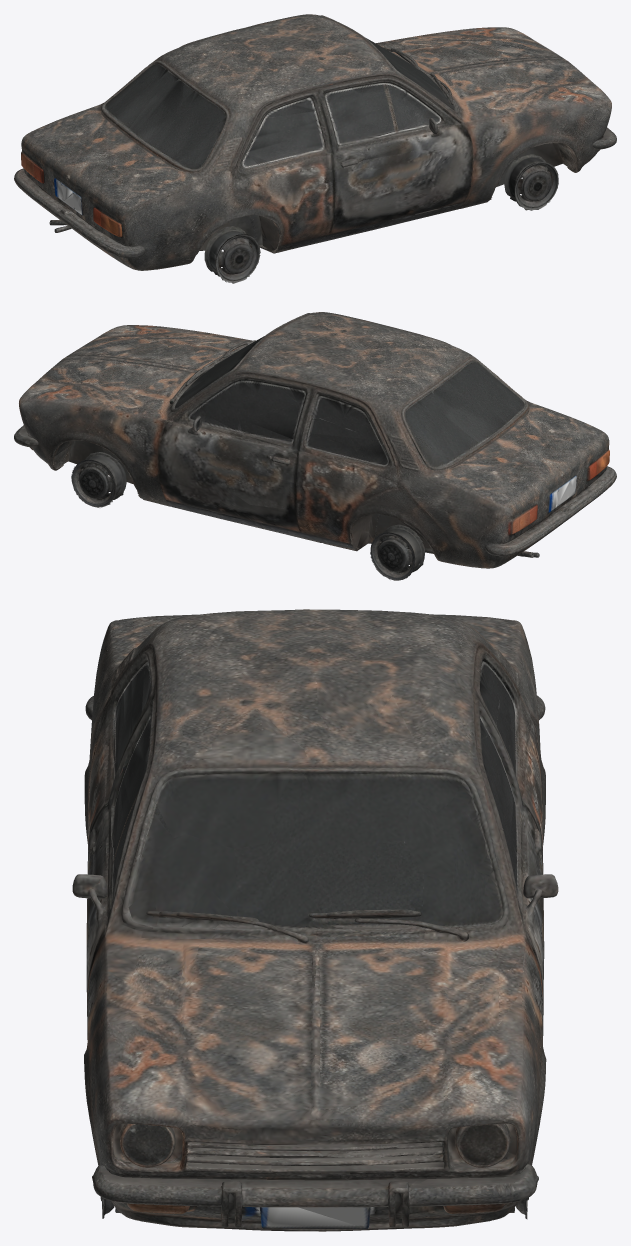
Rendered from lambari-queimado__01a16dcf.glb.
The picture shows the model from 3 angles, top to bottom: view 1: azimuth 30°, elevation 25°; view 2: azimuth 150°, elevation 25°; view 3: azimuth 270°, elevation 25°; orthographic projection. The views are drawn at different scales.
Parts seen in each view (by area): view 1: lambari-queimado; view 2: lambari-queimado; view 3: lambari-queimado.
Part boxes in pixels (x1=…): lambari-queimado: x1=14, y1=14, x2=616, y2=283; lambari-queimado: x1=14, y1=312, x2=616, y2=580; lambari-queimado: x1=72, y1=609, x2=558, y2=1231.
Size of the model in its own units: 4.12 by 1.31 by 1.69.
1 material, 1 textured.
